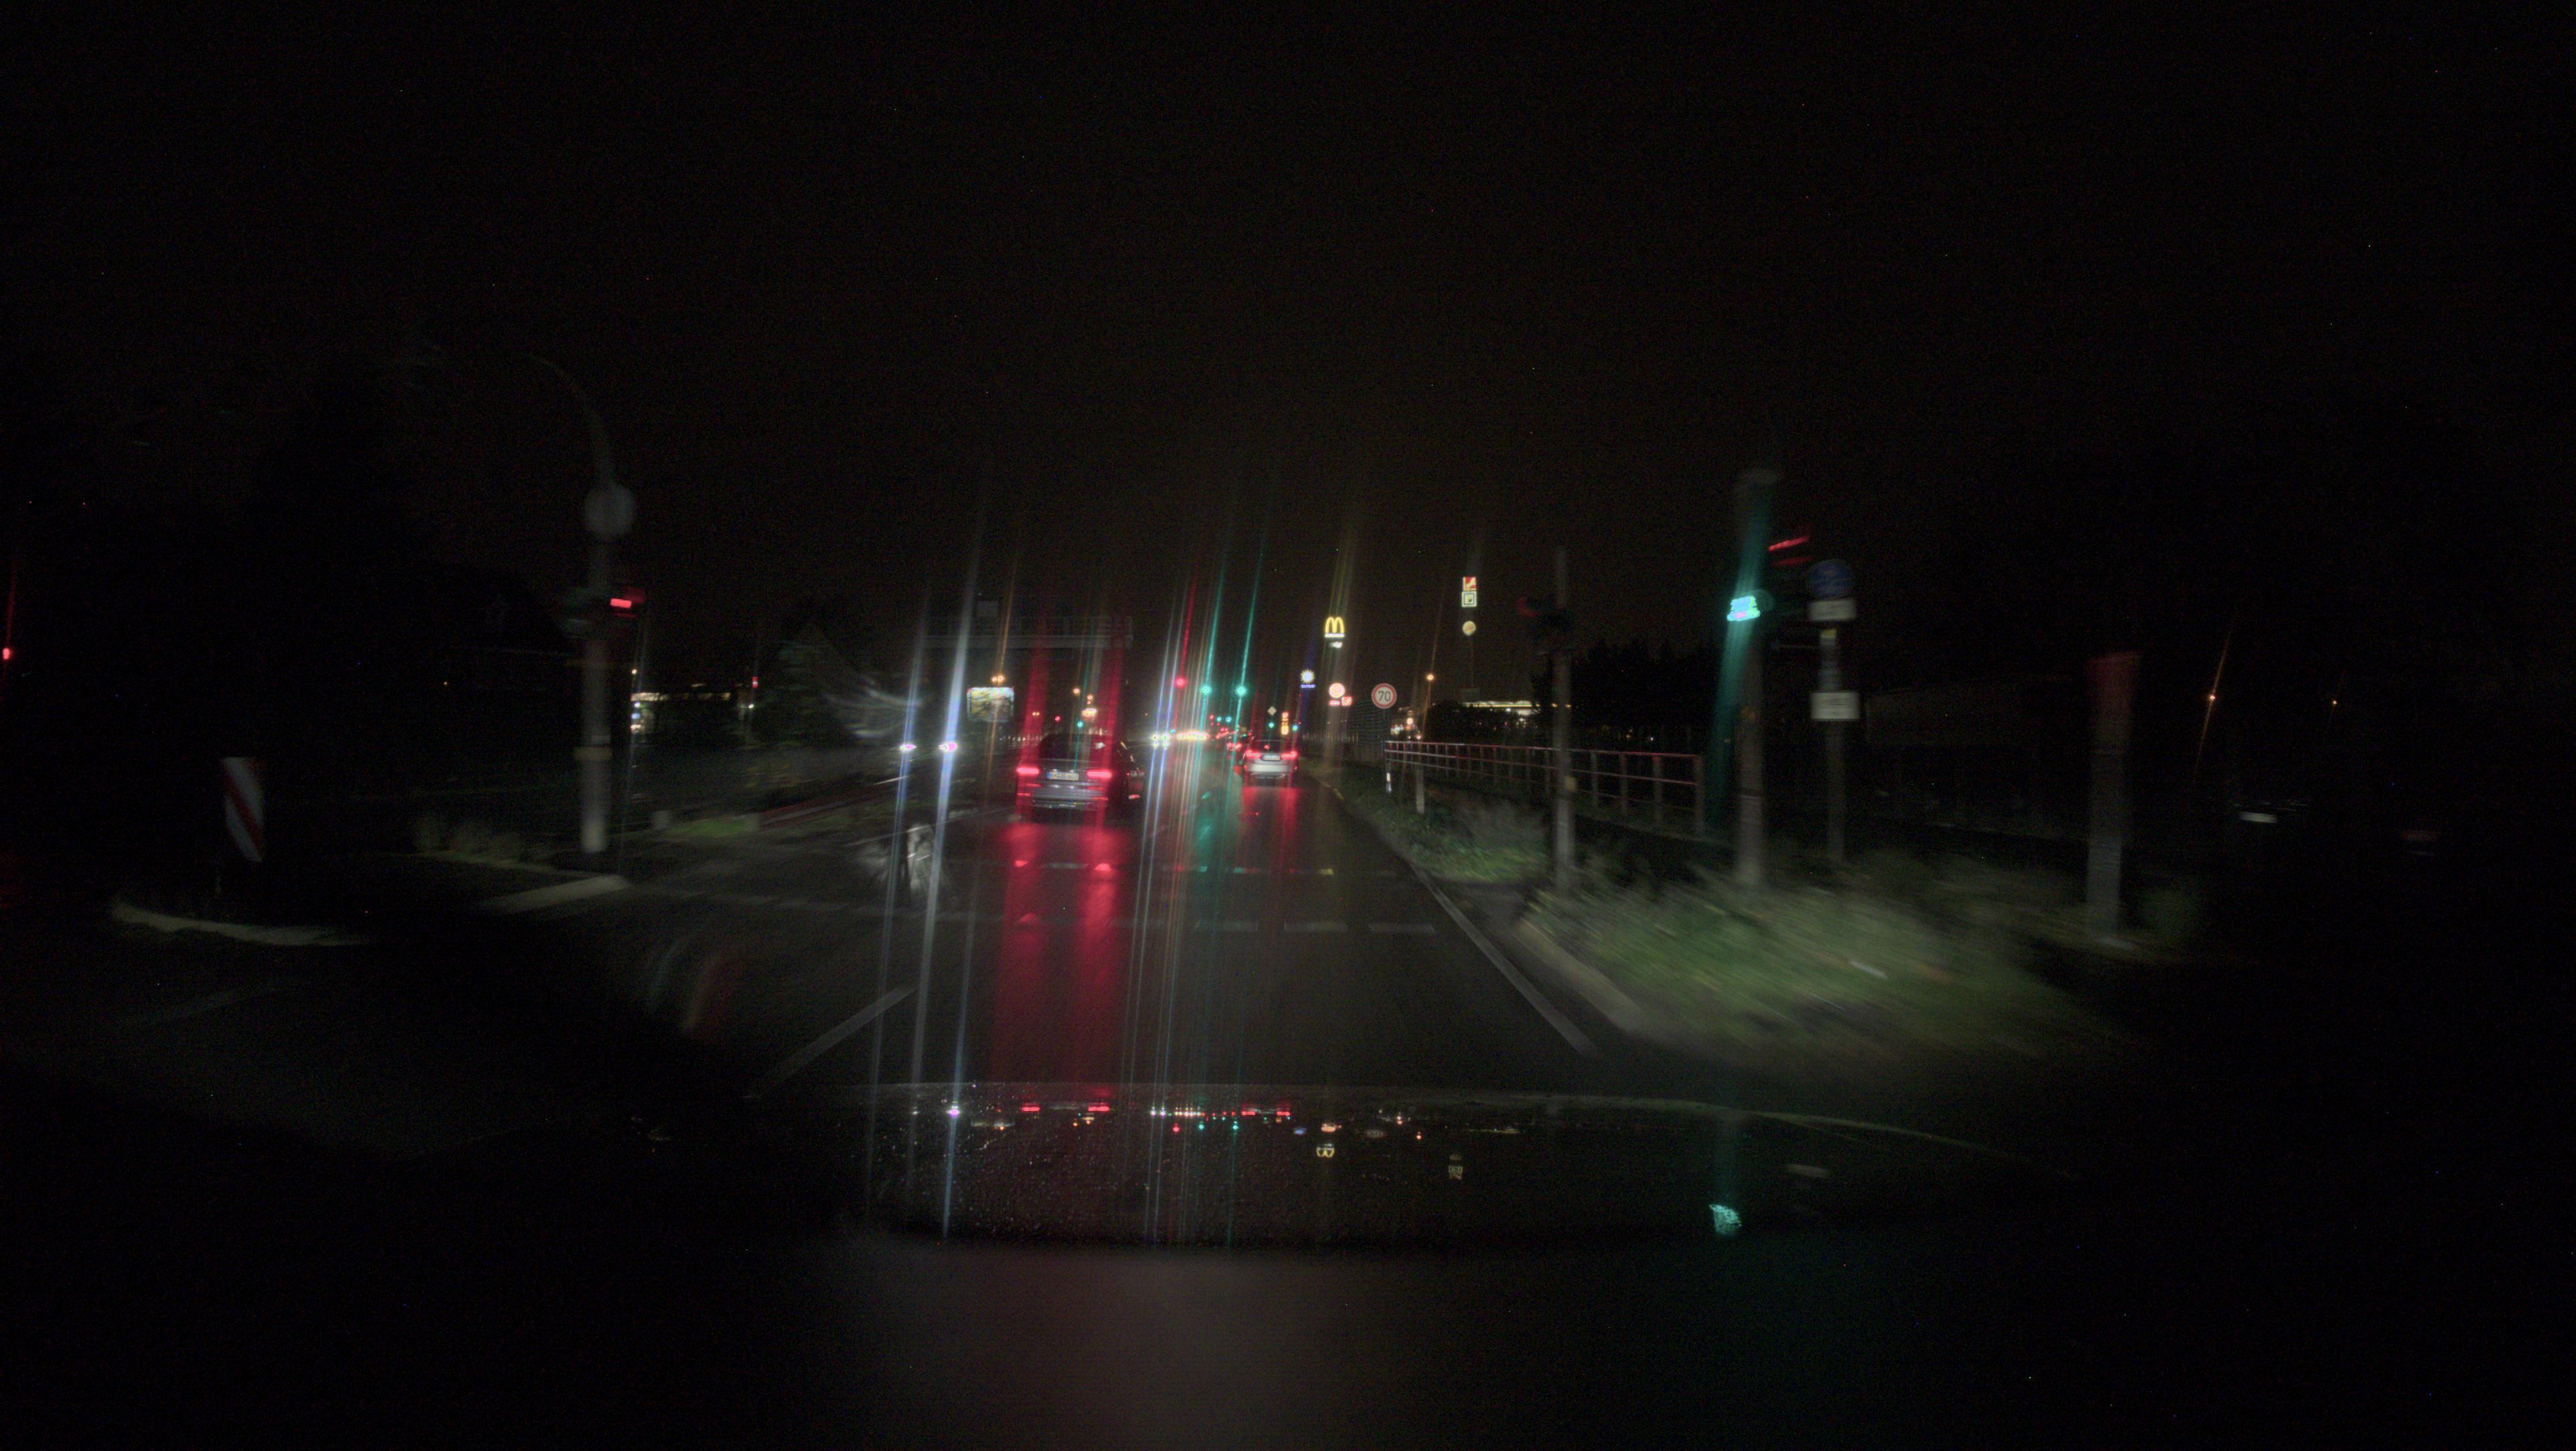green: (1723, 515, 1775, 646)
